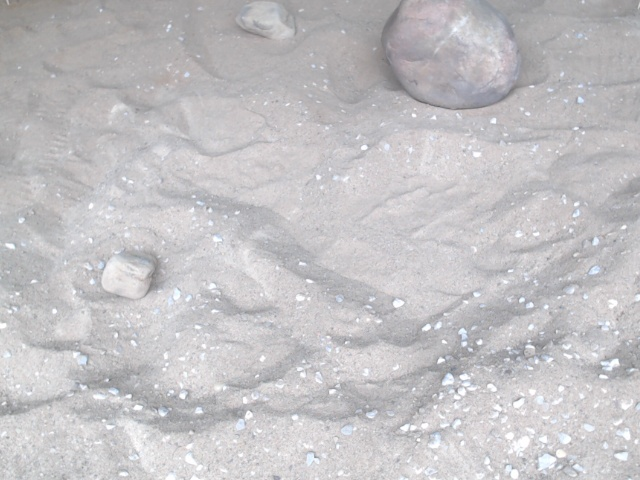rock: (376, 1, 527, 115), (95, 245, 162, 304), (232, 1, 301, 45)
